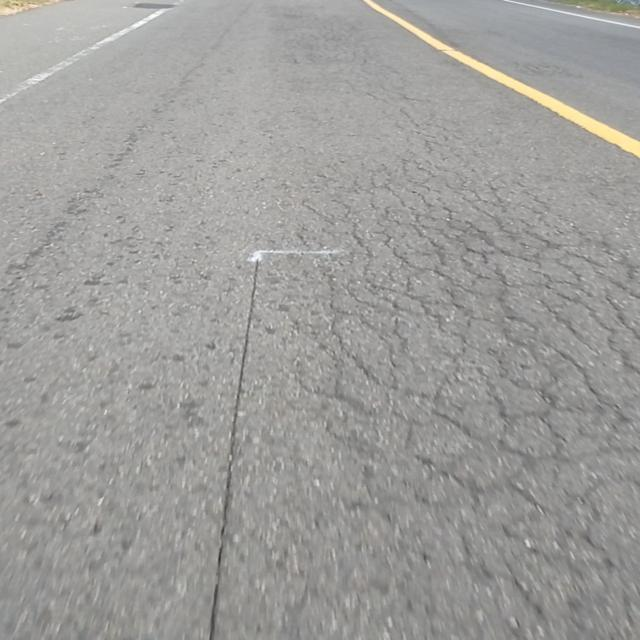Retak Buaya: (276, 162, 640, 640)
